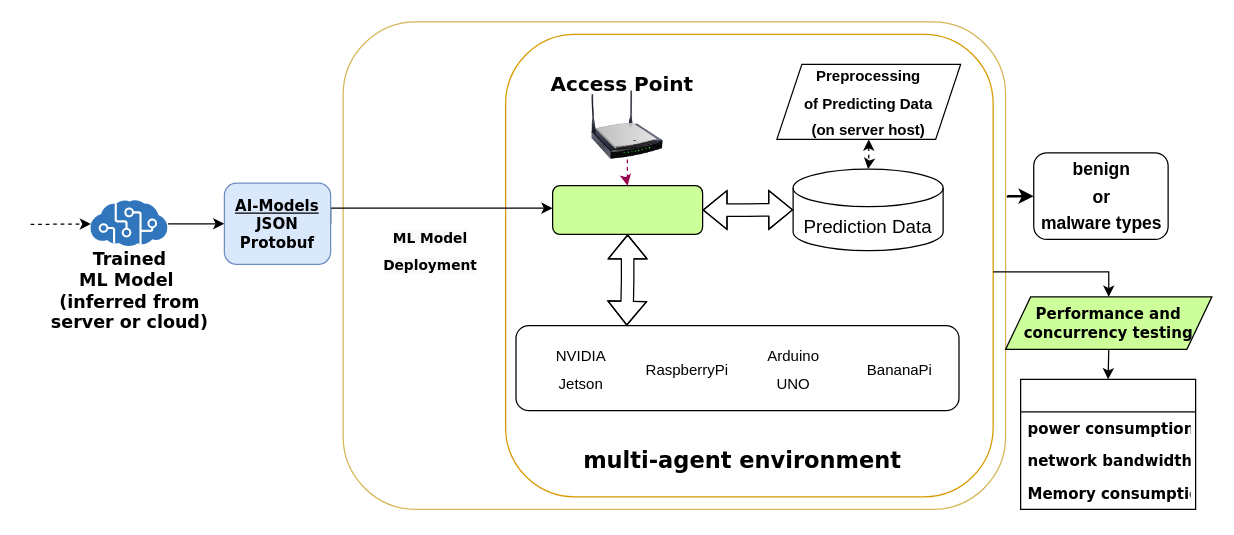
The diagram is 1234 pixels wide and 535 high, and some of its shapes have lost their labels. The box of each missing label's shape, as (x1, y1, x2, y2) in pixels:
IoT Interface: (551, 184, 703, 234)
Measures: (1019, 378, 1196, 509)
